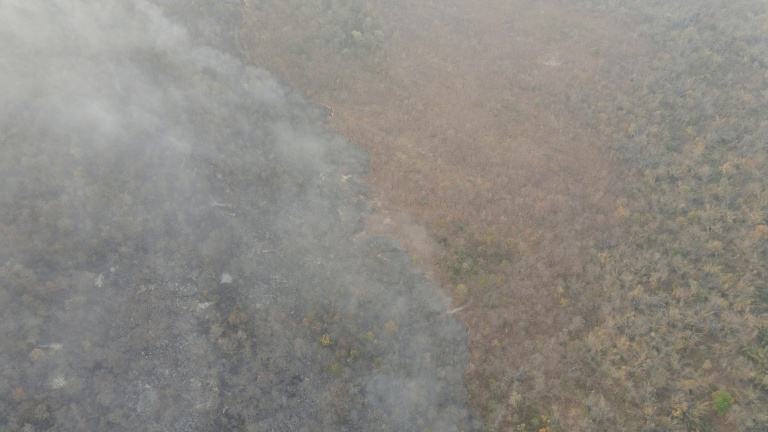smoke: (1, 1, 475, 429)
